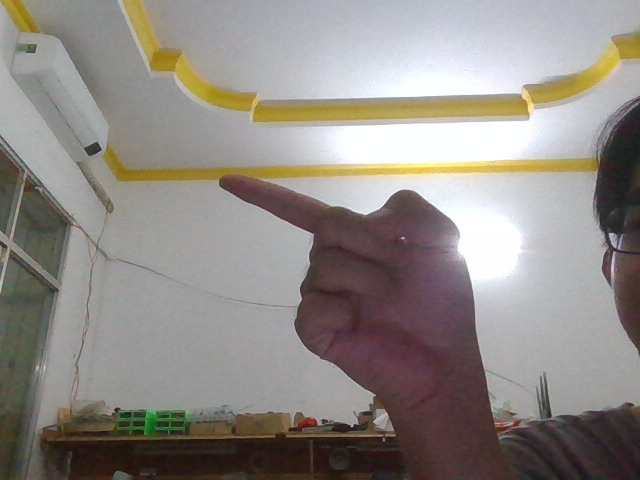turn_right: (210, 170, 494, 412)
